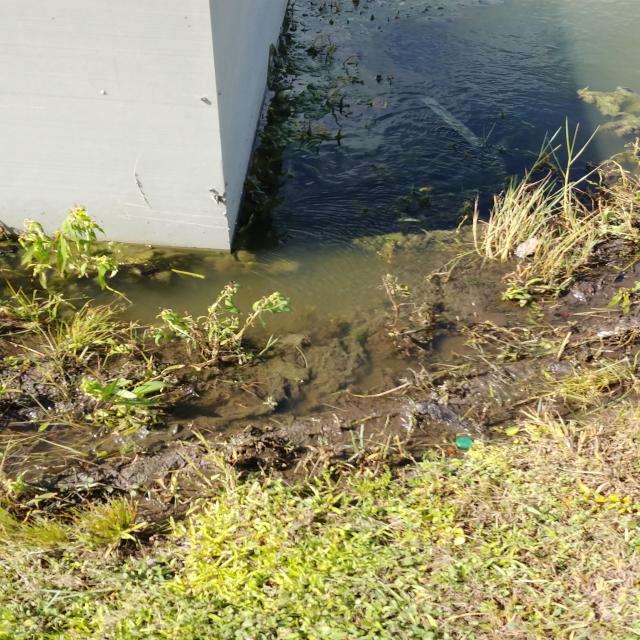litter: (580, 124, 601, 141), (124, 188, 148, 202)
